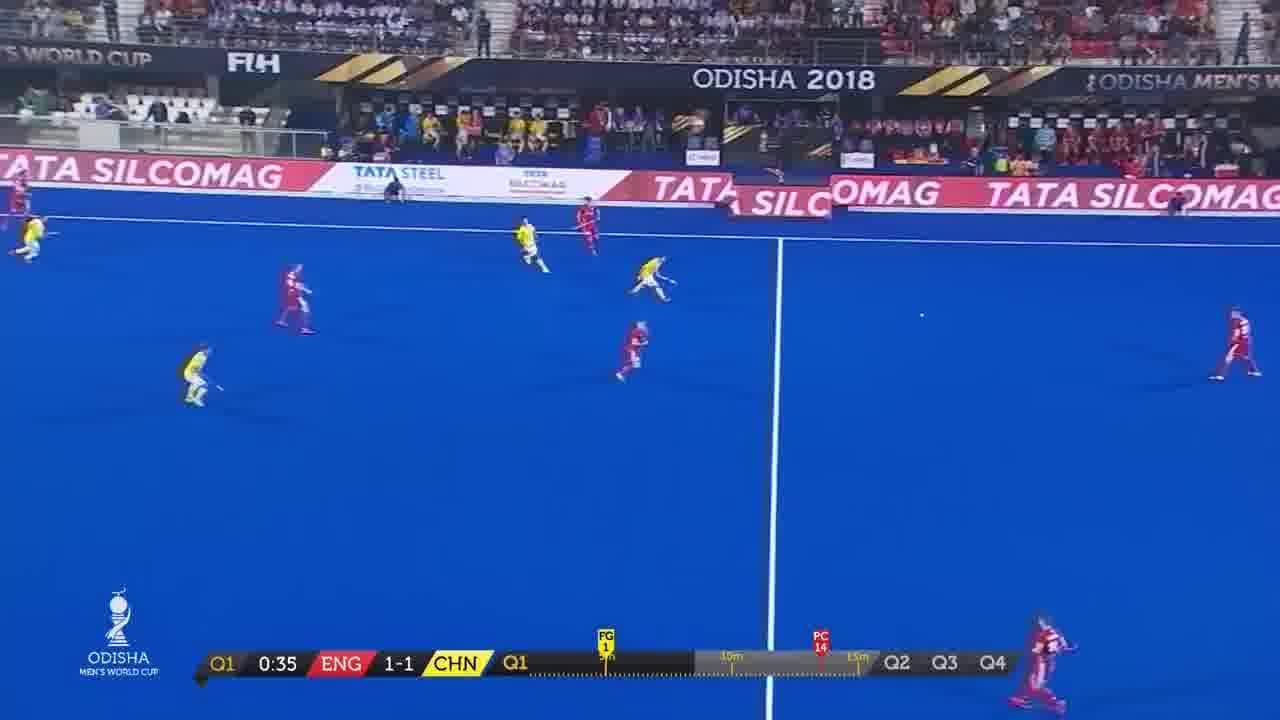ball: (919, 309, 930, 320)
